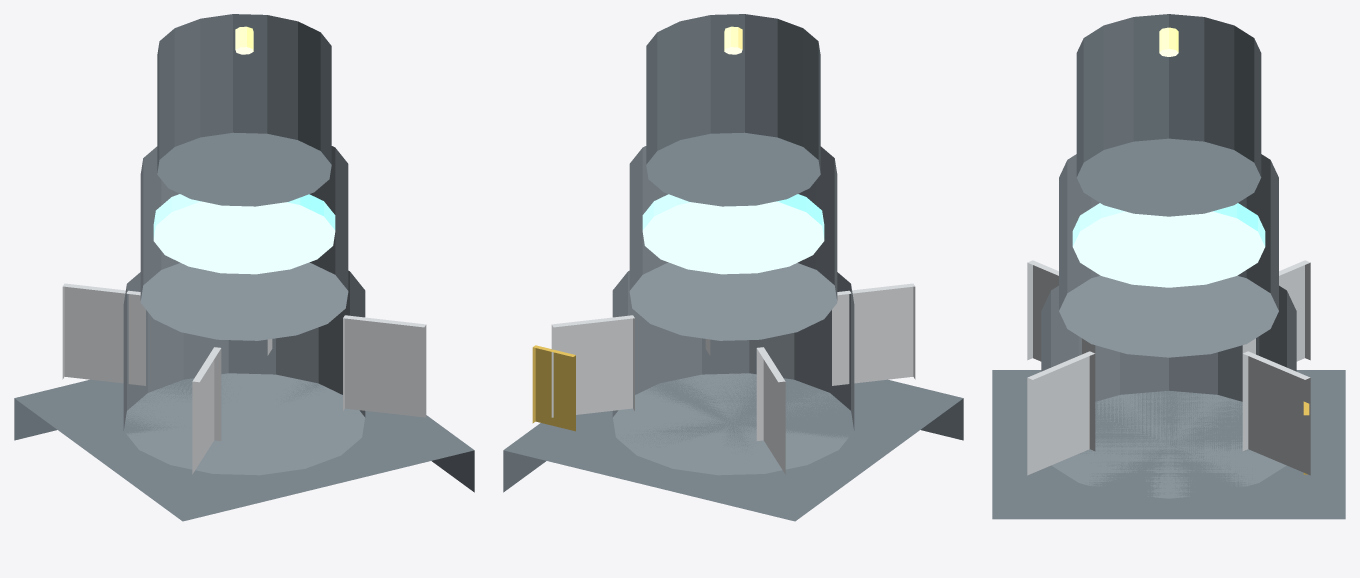
The model's file is oxygen.glb.
3 views of the same model, side by side, from view 1: azimuth 30°, elevation 25°; view 2: azimuth 150°, elevation 25°; view 3: azimuth 270°, elevation 25° (orthographic). The views are drawn at different scales.
Parts seen in each view (by area): view 1: VH_OxygenRecycler; view 2: VH_OxygenRecycler; view 3: VH_OxygenRecycler.
Part boxes in pixels (bbox=[...]): VH_OxygenRecycler: bbox=[14, 14, 474, 521]; VH_OxygenRecycler: bbox=[503, 14, 963, 521]; VH_OxygenRecycler: bbox=[992, 14, 1345, 519].
Size of the model in its own units: 3.6 by 5.14 by 3.6.
